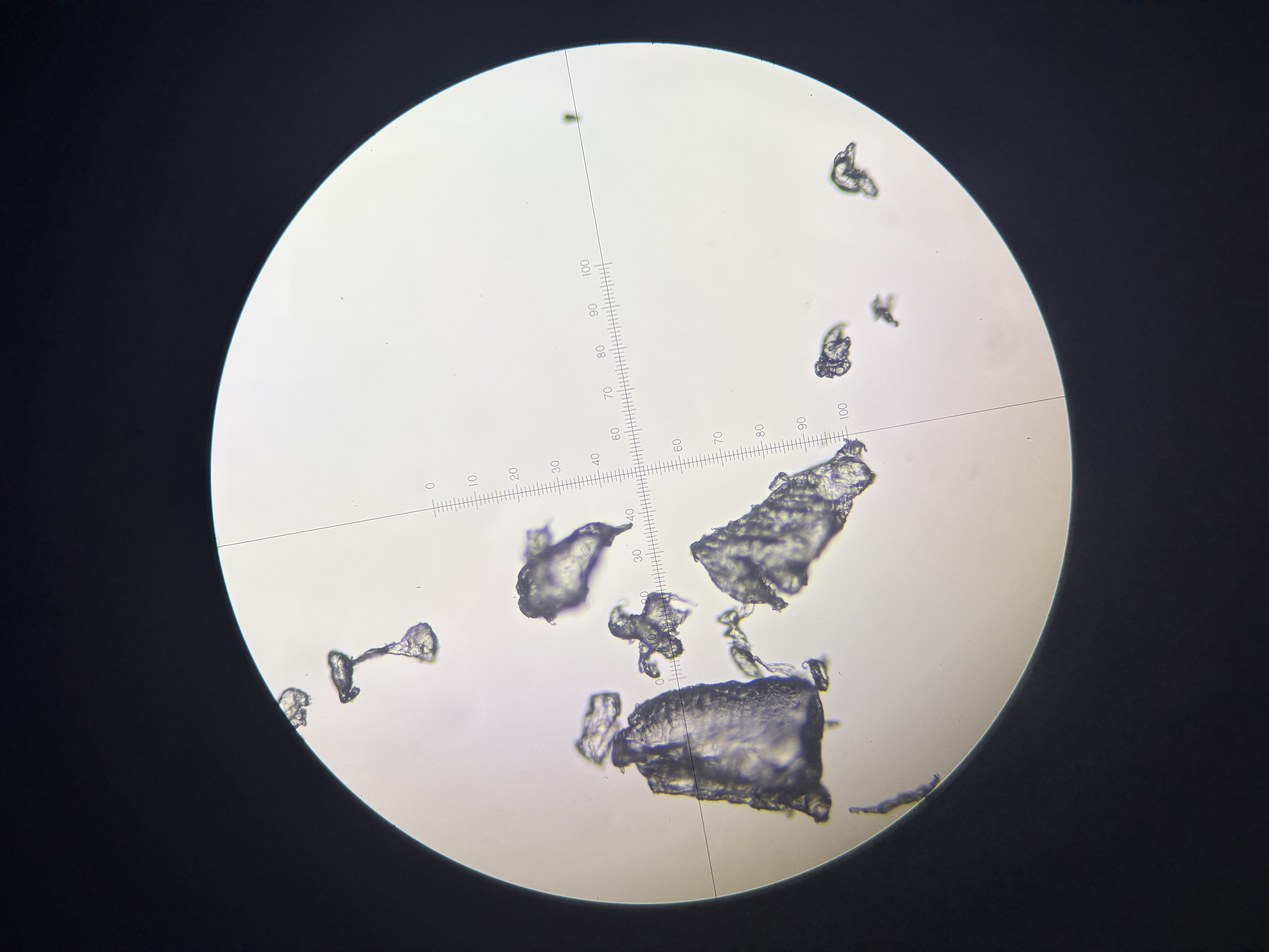microplastic: (688, 437, 877, 614), (610, 675, 833, 824), (515, 520, 634, 627), (327, 621, 440, 705), (607, 591, 699, 679), (848, 771, 941, 817), (573, 691, 623, 766), (717, 610, 764, 678), (828, 141, 880, 198), (814, 322, 852, 379), (276, 687, 312, 730), (870, 293, 900, 329), (800, 659, 830, 693), (752, 655, 796, 677), (737, 602, 755, 618), (563, 113, 582, 122), (824, 720, 841, 729)
